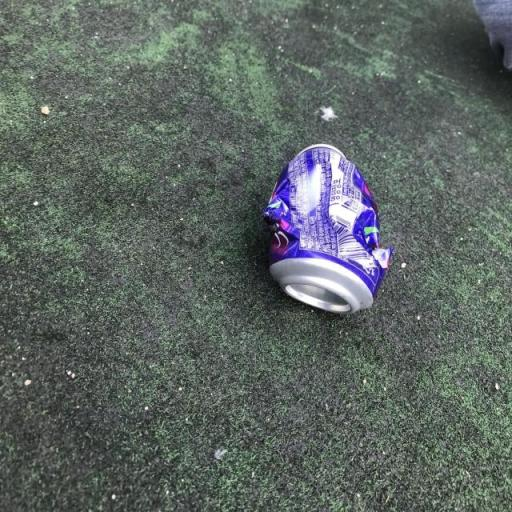metal: (259, 134, 398, 346)
